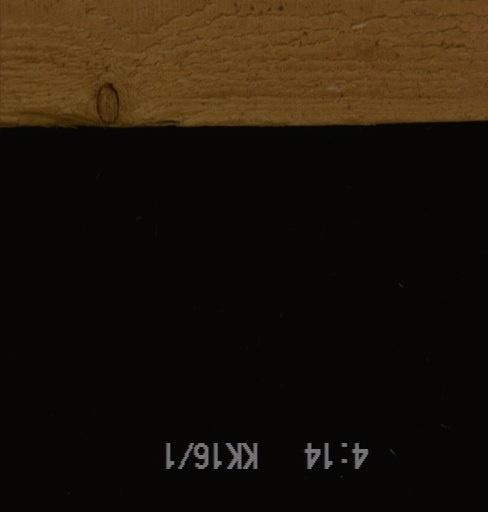dry_knot: (95, 82, 120, 123)
wave: (0, 116, 181, 128)
